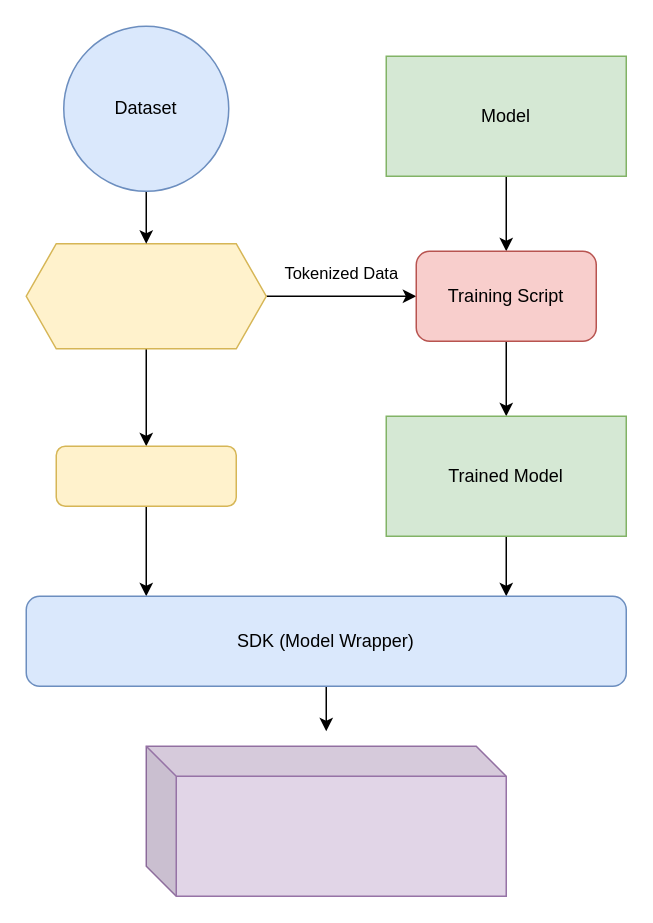
Some shapes in this 653 by 923 pixel diagram are drawn without their labels. The shapes that lost their labels are listed below. From the top down, each one's centre as x and y in pixels, then its label:
At pixel 145 295: "Tokenizer".
At pixel 145 475: "Vocab & Config".
At pixel 325 820: "Neunote Plugin".
